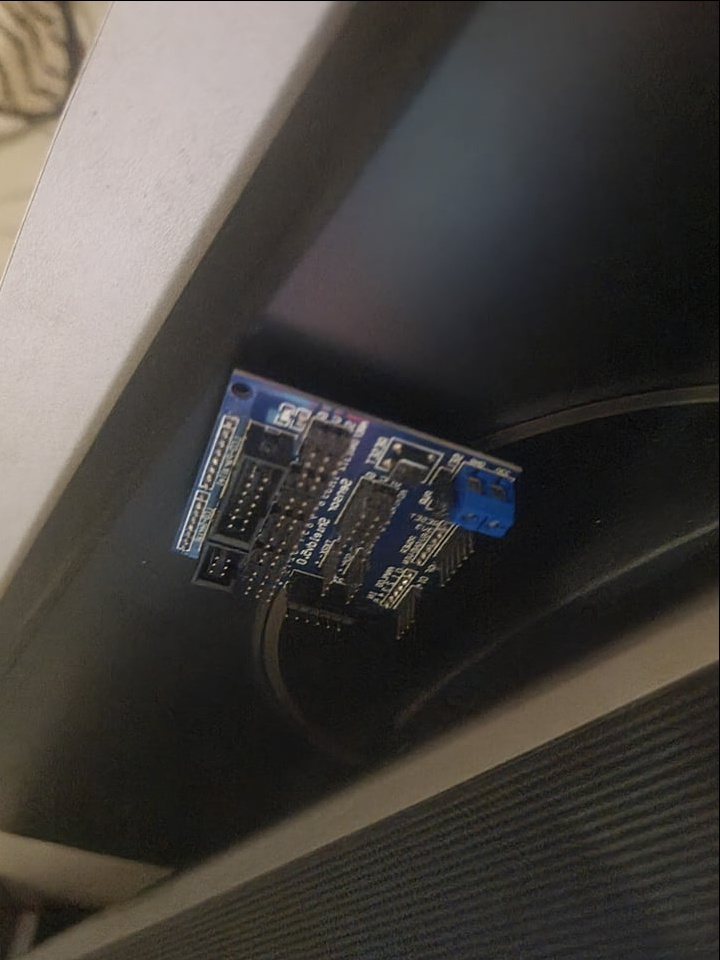5V EXPANSION: (174, 362, 529, 645)
